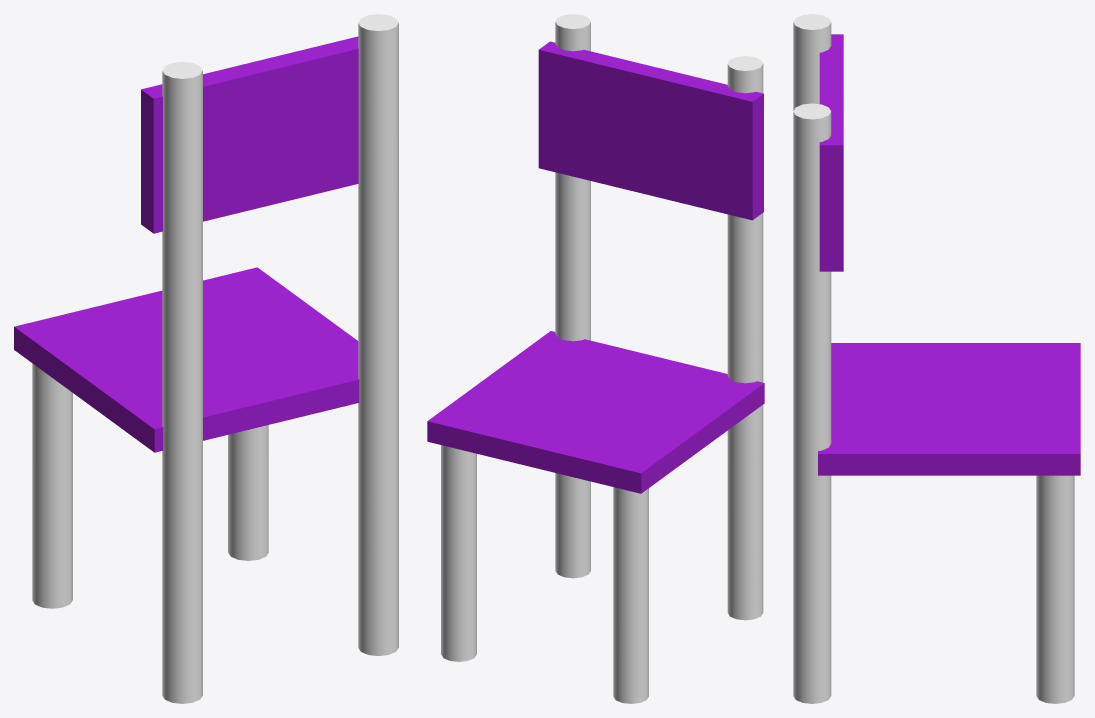
The model's file is chair.fbx.
The picture shows the model from 3 angles, left to right: view 1: azimuth 30°, elevation 25°; view 2: azimuth 150°, elevation 25°; view 3: azimuth 270°, elevation 25°; orthographic projection. The views are drawn at different scales.
Visible parts, largest first — view 1: Cylinder012; view 2: Cylinder012; view 3: Cylinder012.
Part boxes in pixels (x1,y1,x2,y2): Cylinder012: (14,14,398,703); Cylinder012: (427,14,764,703); Cylinder012: (793,14,1080,703).
Size of the model in its own units: 20 by 49.1 by 21.88.
